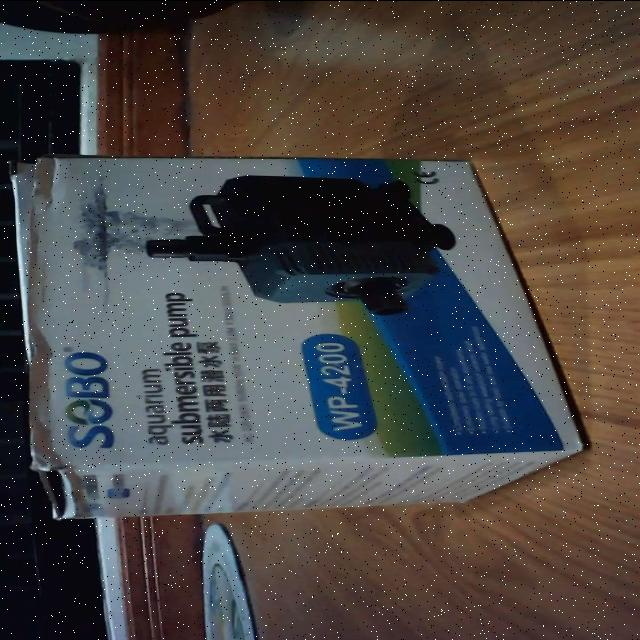SOBO_WP_4200: (7, 142, 590, 526)
